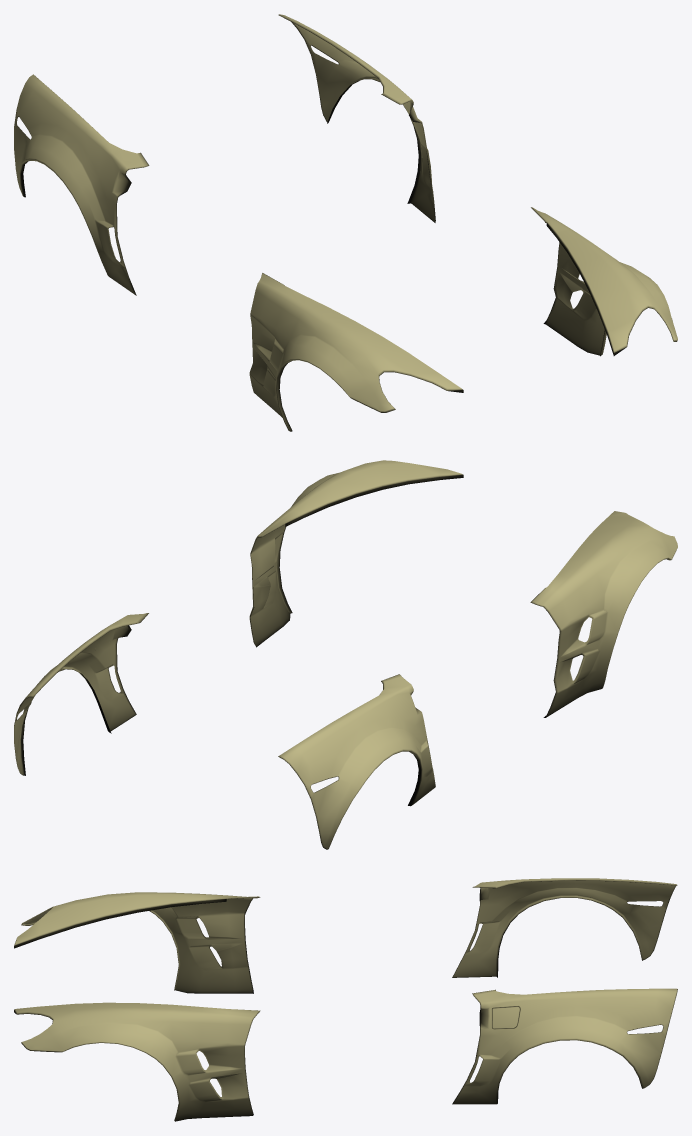
File: Zr1_Fender_03_Duco.fbx
3 renders of one model, top to bottom at view 1: azimuth 30°, elevation 25°; view 2: azimuth 150°, elevation 25°; view 3: azimuth 270°, elevation 25°, orthographic. The views are drawn at different scales.
Visible parts, largest first — view 1: Zr1_Fender_03_Duco; view 2: Zr1_Fender_03_Duco; view 3: Zr1_Fender_03_Duco.
Part boxes in pixels (x1=…): Zr1_Fender_03_Duco: x1=14, y1=14, x2=677, y2=431; Zr1_Fender_03_Duco: x1=14, y1=460, x2=677, y2=849; Zr1_Fender_03_Duco: x1=14, y1=878, x2=677, y2=1121.
Size of the model in its own units: 201 by 78.26 by 387.
